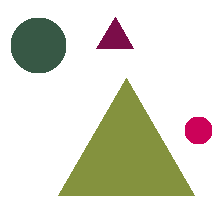circle: (11, 18, 65, 72), (185, 117, 211, 143)
triangle: (58, 78, 194, 195), (96, 17, 133, 48)
